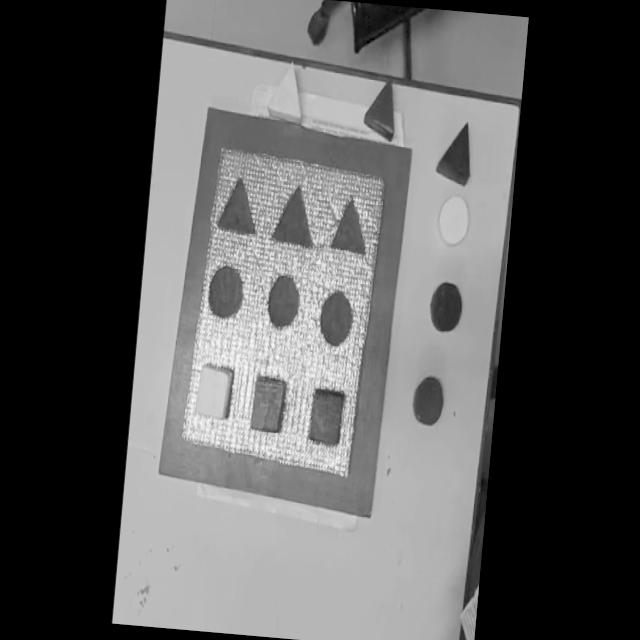bcircle: (427, 279, 464, 334)
bcube: (306, 388, 344, 447)
btriangle: (435, 118, 474, 185)
mtcircle: (205, 261, 245, 320), (317, 288, 355, 348), (264, 271, 302, 330)
mttriangle: (272, 182, 318, 250), (216, 174, 258, 236), (329, 193, 370, 256)
rcircle: (411, 373, 446, 428)
rcube: (249, 376, 286, 434)
rtriangle: (361, 76, 398, 142)
wb: (178, 144, 388, 482)
ycircle: (434, 192, 472, 248)
ycube: (194, 362, 234, 420)
ytriangle: (266, 59, 306, 125)
